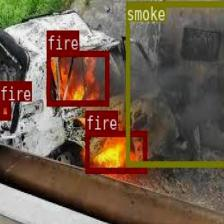fire: (46, 50, 109, 105), (85, 130, 146, 173), (0, 100, 9, 118)
smoke: (125, 0, 224, 166)
